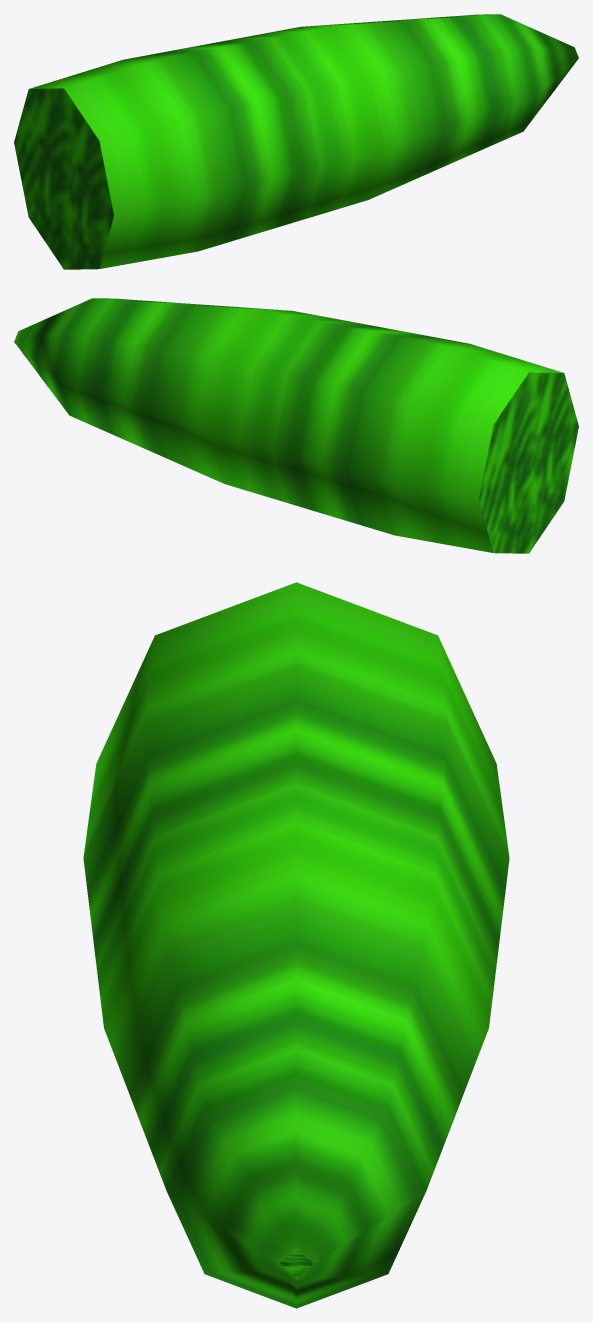
Rendered from bullet.obj.
3 views of the same model, one above another, from view 1: azimuth 30°, elevation 25°; view 2: azimuth 150°, elevation 25°; view 3: azimuth 270°, elevation 25° (orthographic). The views are drawn at different scales.
Visible parts, largest first — view 1: Spline Object; view 2: Spline Object; view 3: Spline Object.
Boxes of the visible parts, box(x1,y1,x2,y2) form: Spline Object: box(14, 14, 578, 269); Spline Object: box(14, 298, 578, 553); Spline Object: box(83, 582, 509, 1308).
Size of the model in its own units: 10 by 3.61 by 3.61.
1 material, 1 textured.
